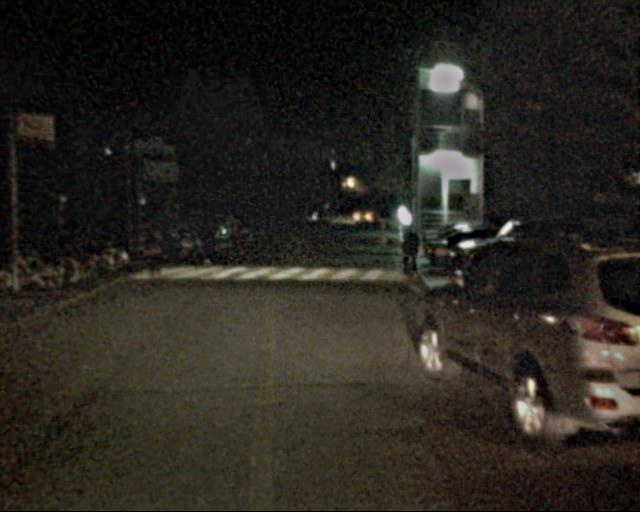person: (396, 227, 421, 287), (137, 220, 161, 279), (191, 217, 209, 262)
